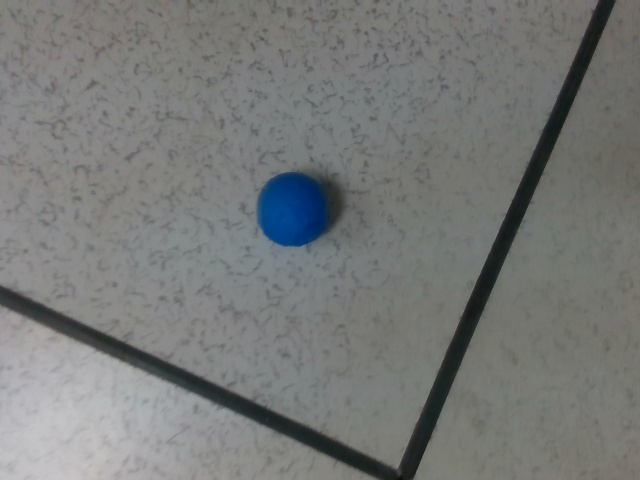blueball: (252, 171, 333, 247)
